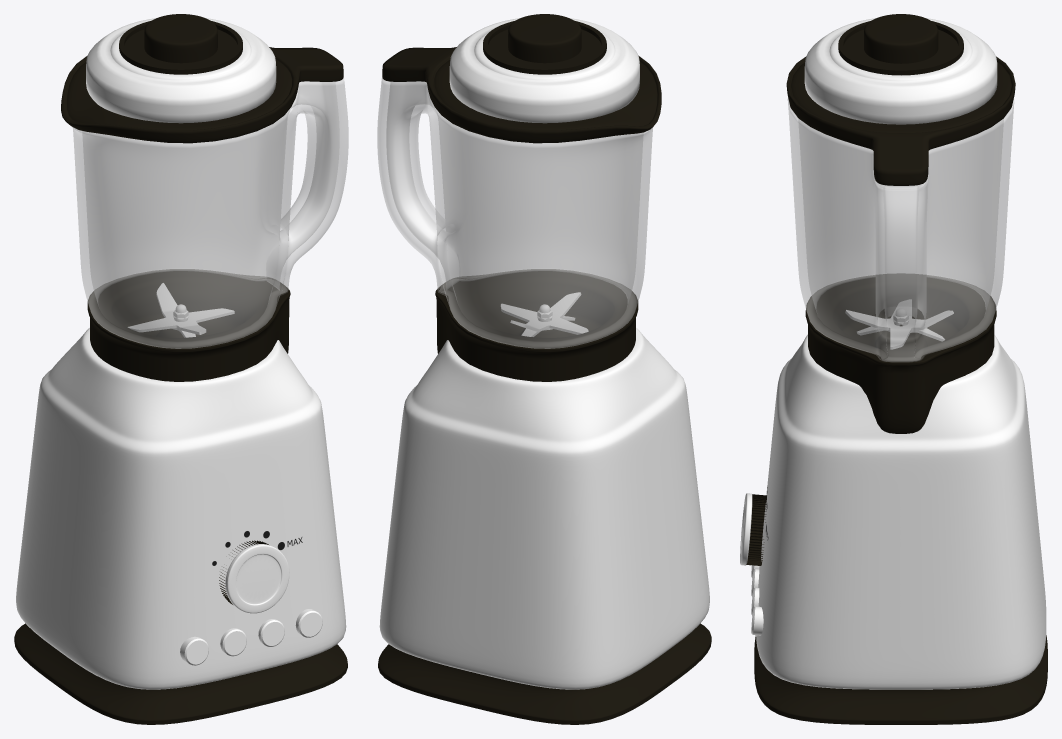
File: blender.glb
3 renders of one model, left to right at view 1: azimuth 30°, elevation 25°; view 2: azimuth 150°, elevation 25°; view 3: azimuth 270°, elevation 25°, orthographic.
Visible parts, largest first — view 1: Cube, Cube.002, Cube.001, Cylinder, Cylinder.001, blender_vulcain_74.par:1.003, blender_vulcain_15.par:1.5; view 2: Cube, Cube.002, Cube.001, Cylinder, blender_vulcain_15.par:1.5; view 3: Cube, Cube.002, Cube.001, Cylinder, blender_vulcain_15.par:1.5, blender_vulcain_86.par:1.002, blender_vulcain_74.par:1.003, Cylinder.001.
Boxes of the visible parts, box(x1,y1,x2,y2) form: Cube: box(14, 328, 347, 724); Cube.002: box(73, 78, 348, 348); Cube.001: box(61, 47, 343, 381); Cylinder: box(86, 14, 276, 123); Cylinder.001: box(225, 544, 289, 613); blender_vulcain_74.par:1.003: box(180, 609, 322, 665); blender_vulcain_15.par:1.5: box(127, 283, 234, 334); Cube: box(378, 328, 711, 724); Cube.002: box(377, 78, 652, 348); Cube.001: box(382, 47, 661, 381); Cylinder: box(449, 14, 639, 123); blender_vulcain_15.par:1.5: box(500, 292, 588, 334); Cube: box(754, 334, 1047, 724); Cube.002: box(787, 98, 1014, 362); Cube.001: box(786, 56, 1015, 433); Cylinder: box(804, 14, 997, 124); blender_vulcain_15.par:1.5: box(845, 300, 953, 349); blender_vulcain_86.par:1.002: box(746, 494, 766, 565); blender_vulcain_74.par:1.003: box(751, 565, 763, 635); Cylinder.001: box(740, 493, 752, 565).
Bounding box in the file's own units: 23.39 × 49.31 × 21.52.
6 materials, 1 textured.
